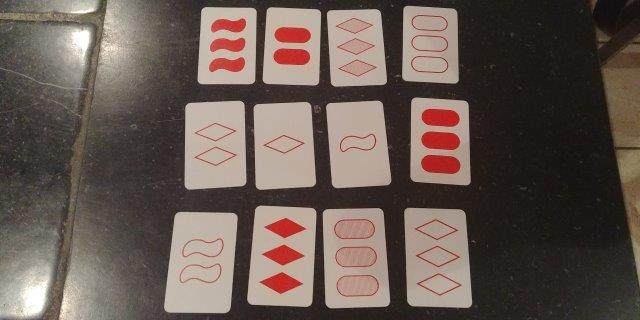1ED: (256, 105, 309, 184)
1EW: (332, 106, 382, 183)
2ED: (189, 104, 241, 183)
2EW: (175, 215, 228, 308)
2FP: (269, 10, 316, 83)
3ED: (408, 213, 463, 303)
3EP: (404, 9, 455, 79)
3FD: (256, 209, 310, 301)
3FP: (413, 101, 465, 181)
3FW: (203, 8, 253, 81)
3HD: (331, 11, 379, 82)
3HP: (326, 212, 382, 304)
